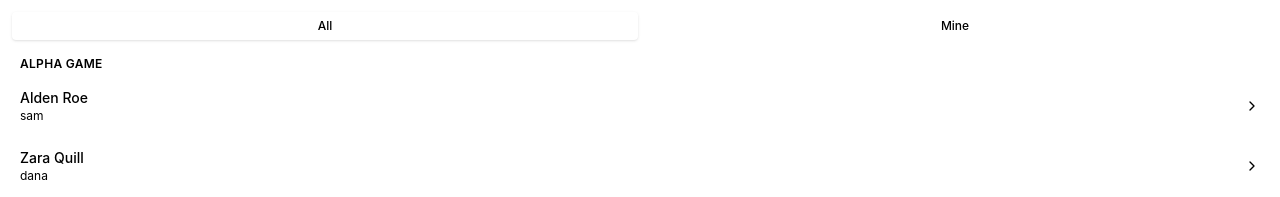
Test case: CharacterSheetPanel — the All / Mine filter › keeps the filter on screen after filtering to nothing
Click the button with test id "cast-filter-mine". click: (955, 26)
box: [642,12,1268,40]
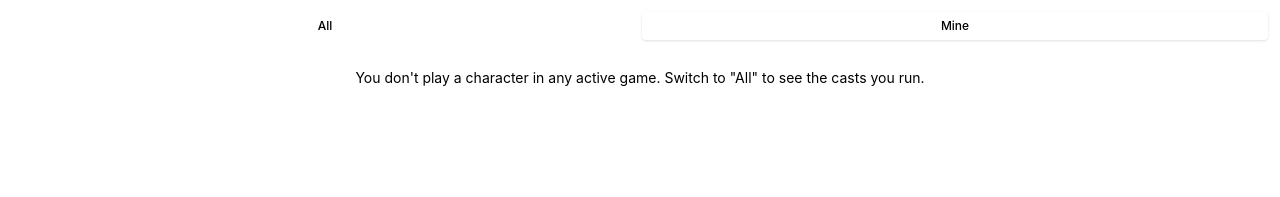
Check: the element with test id "cast-filter" is shown, box [8,8,1272,44]
Check: the text "Switch to \"All\"" is shown, box [355,69,925,86]
